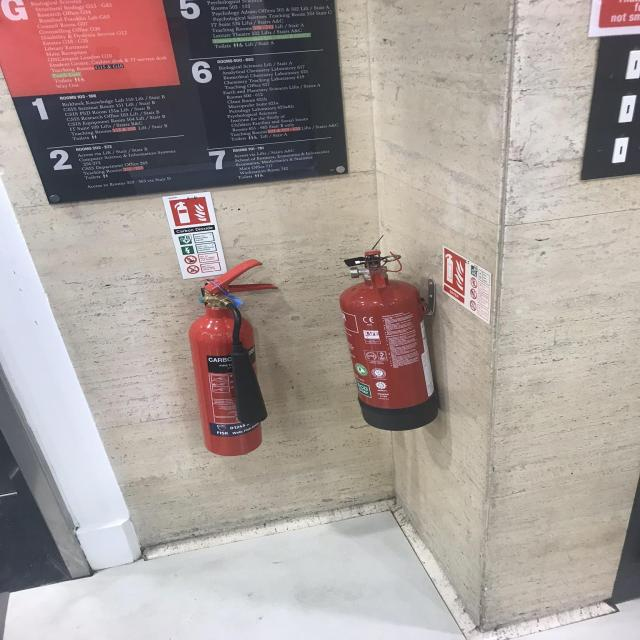fire_extinguisher: (185, 255, 285, 462), (336, 247, 446, 433)
